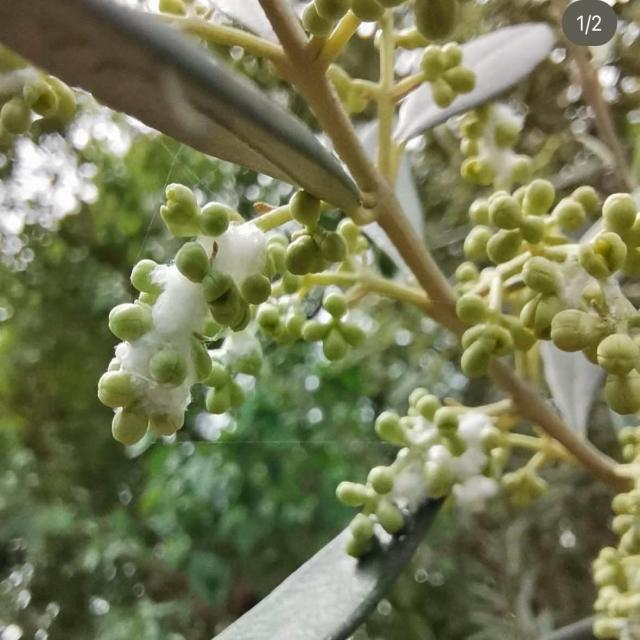Psyllid: (98, 184, 293, 453), (336, 388, 504, 566), (521, 194, 639, 361)
